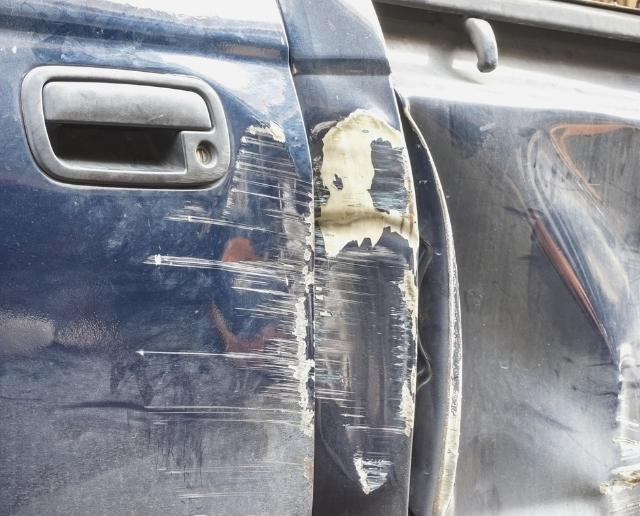Door: (130, 71, 309, 481), (304, 85, 434, 516)
Fender: (505, 106, 640, 393)
